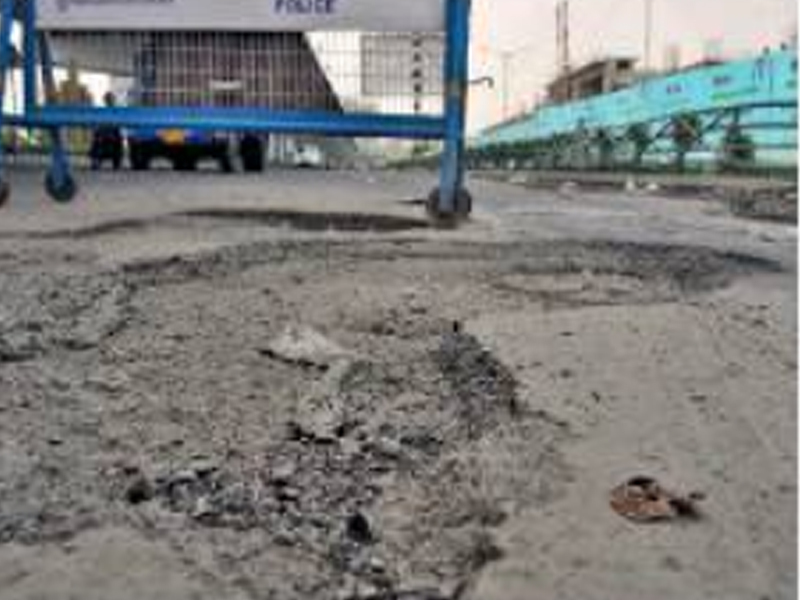pothole: (0, 316, 592, 581), (139, 216, 751, 328)
